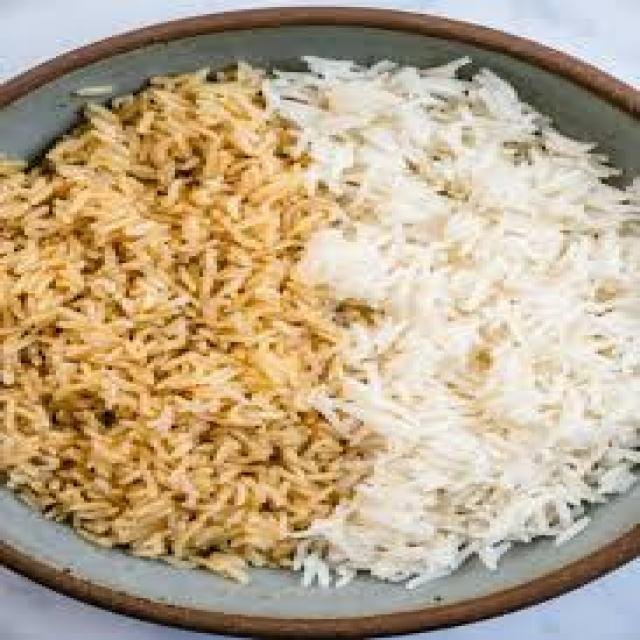White Rice: (333, 70, 636, 621)
